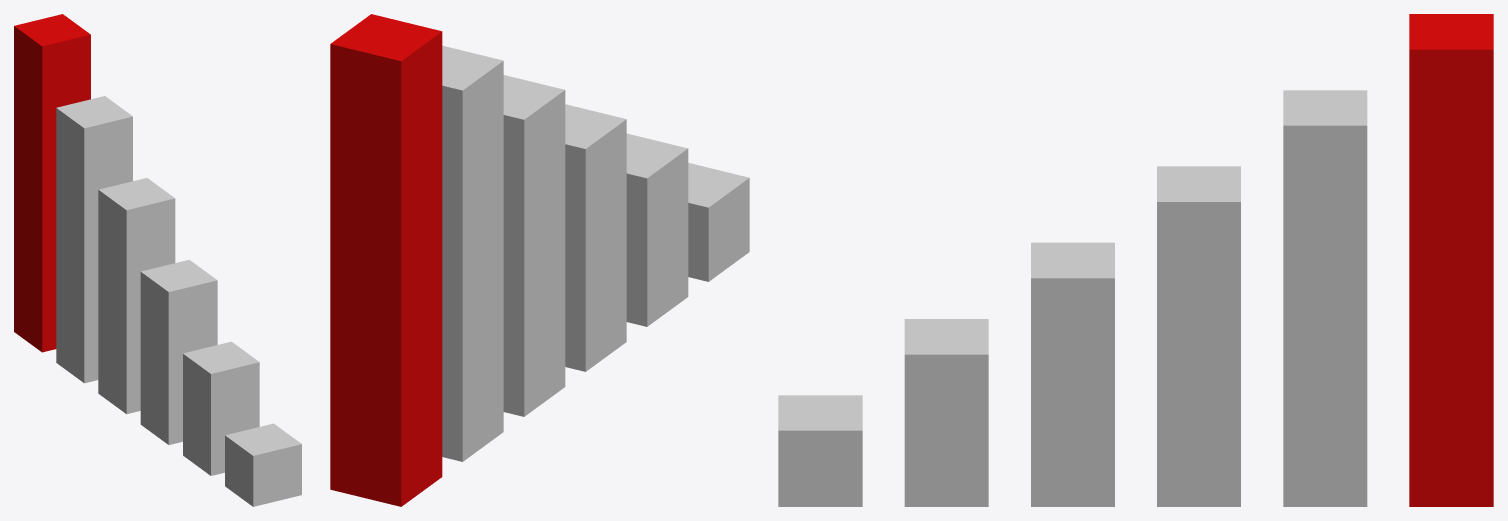
The model's file is Balkendiagramm.glb.
The picture shows the model from 3 angles, left to right: view 1: azimuth 30°, elevation 25°; view 2: azimuth 150°, elevation 25°; view 3: azimuth 270°, elevation 25°; orthographic projection. The views are drawn at different scales.
Parts seen in each view (by area): view 1: Cube.006, Cube.005, Cube.004, Cube.003, Cube.002, Cube; view 2: Cube.006, Cube.005, Cube.004, Cube.003, Cube.002, Cube; view 3: Cube.006, Cube.005, Cube.004, Cube.003, Cube.002, Cube.
Boxes of the visible parts, x1,y1,x2,y2 form: Cube.006: (14,14,90,352); Cube.005: (56,96,132,383); Cube.004: (98,178,175,414); Cube.003: (140,259,217,444); Cube.002: (183,341,259,475); Cube: (225,423,301,506); Cube.006: (330,14,442,506); Cube.005: (442,45,503,461); Cube.004: (503,75,565,416); Cube.003: (565,104,626,371); Cube.002: (626,133,688,326); Cube: (688,163,749,281); Cube.006: (1409,14,1493,506); Cube.005: (1283,90,1367,506); Cube.004: (1157,166,1240,506); Cube.003: (1031,242,1114,506); Cube.002: (904,319,988,506); Cube: (778,395,862,506).
Bounding box in the file's own units: 2 × 12 × 17.
